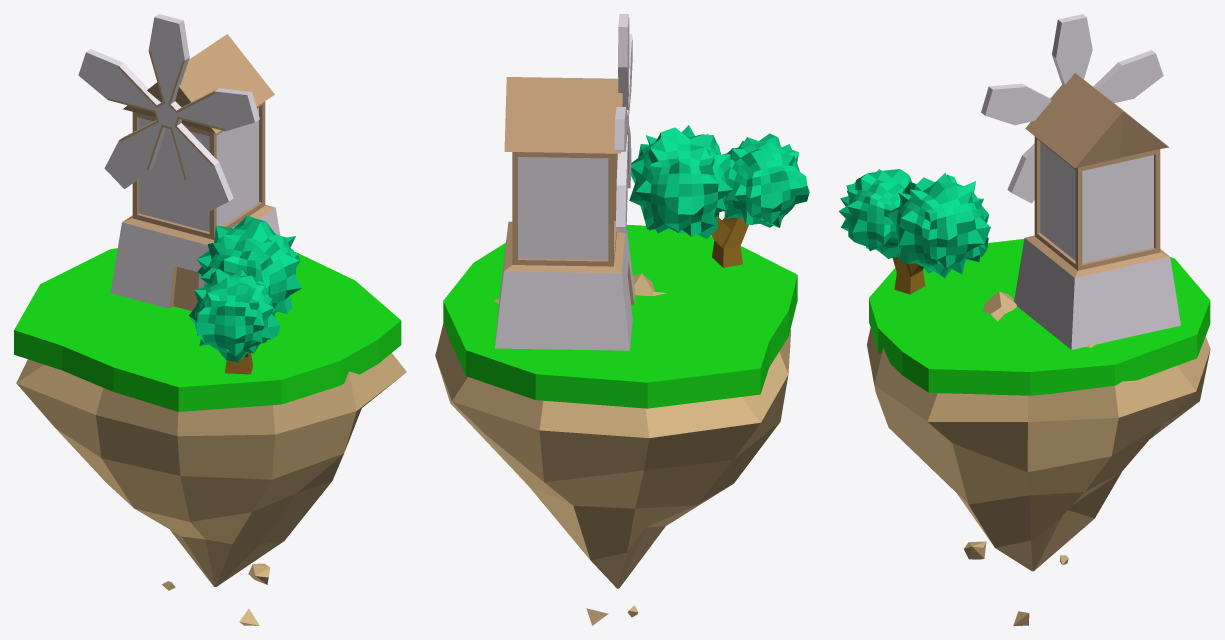
The model's file is low_poly_mill.glb.
3 renders of one model, left to right at view 1: azimuth 30°, elevation 25°; view 2: azimuth 150°, elevation 25°; view 3: azimuth 270°, elevation 25°, orthographic. The views are drawn at different scales.
Parts seen in each view (by area): view 1: Island, Green_platform, Mill, propeller, Tree; view 2: Island, Green_platform, Mill, Tree, propeller; view 3: Island, Mill, Green_platform, Tree, propeller.
Part boxes in pixels (<box>): Island: <box>16,353,406,625</box>; Green_platform: <box>14,248,401,411</box>; Mill: <box>110,34,280,310</box>; propeller: <box>78,14,259,211</box>; Tree: <box>189,215,301,374</box>; Island: <box>435,273,790,625</box>; Green_platform: <box>443,224,797,408</box>; Mill: <box>495,77,634,350</box>; Tree: <box>629,125,809,267</box>; propeller: <box>614,14,632,232</box>; Island: <box>867,291,1210,625</box>; Mill: <box>1014,73,1180,349</box>; Green_platform: <box>869,239,1210,395</box>; Tree: <box>838,169,990,294</box>; propeller: <box>981,14,1163,203</box>.
Size of the model in its own units: 1.05 by 1.95 by 1.13.
